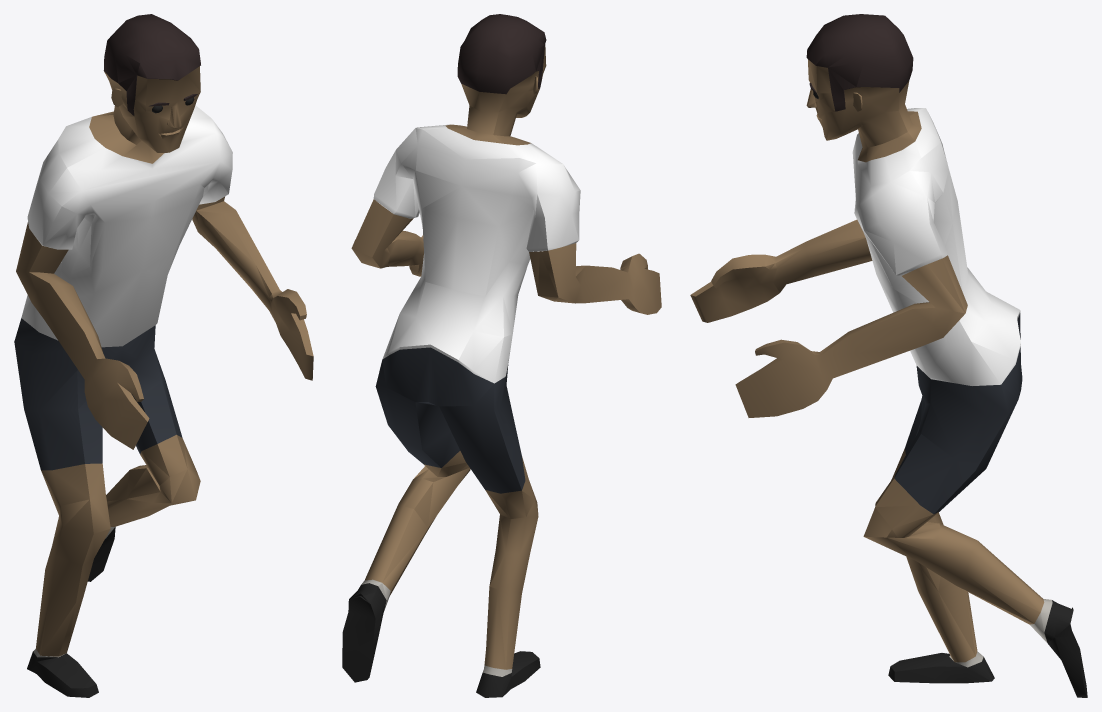
File: person-run.glb
3 views of the same model, side by side, from view 1: azimuth 30°, elevation 25°; view 2: azimuth 150°, elevation 25°; view 3: azimuth 270°, elevation 25° (orthographic). The views are drawn at different scales.
Parts seen in each view (by area): view 1: lod0; view 2: lod0; view 3: lod0.
Part boxes in pixels (x1,y1,x2,y2): lod0: (14,14,313,697); lod0: (342,14,661,697); lod0: (690,14,1087,697).
Size of what is drawn, in the model's own units: 0.5827 by 1.68 by 0.883.
